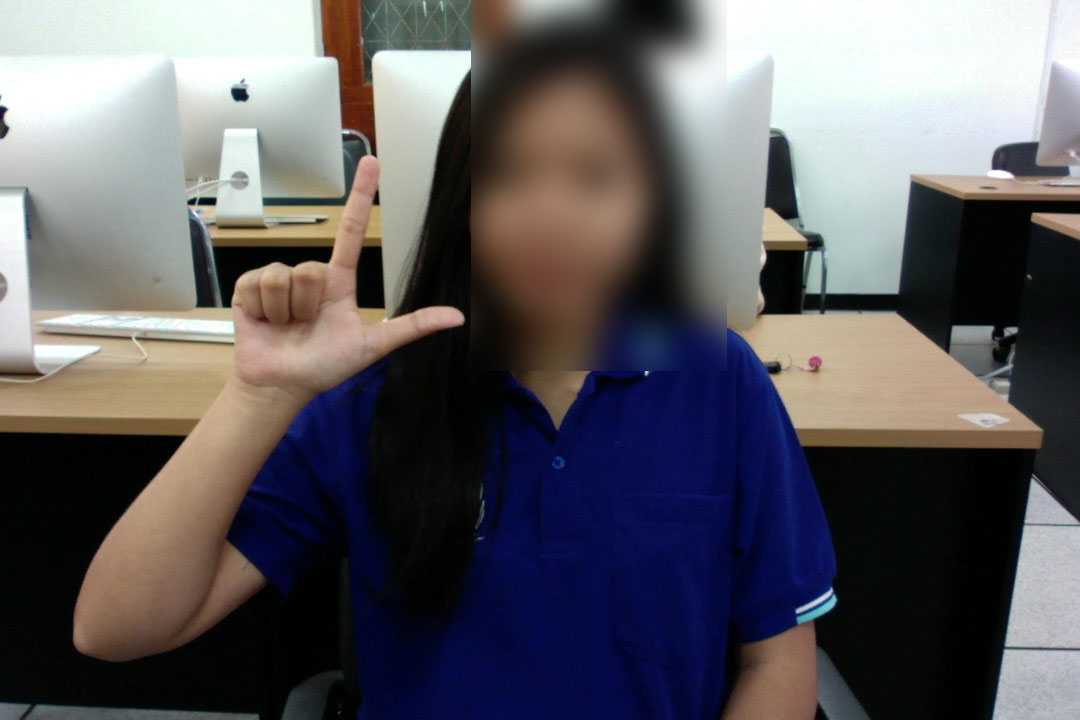lor: (191, 139, 477, 411)
